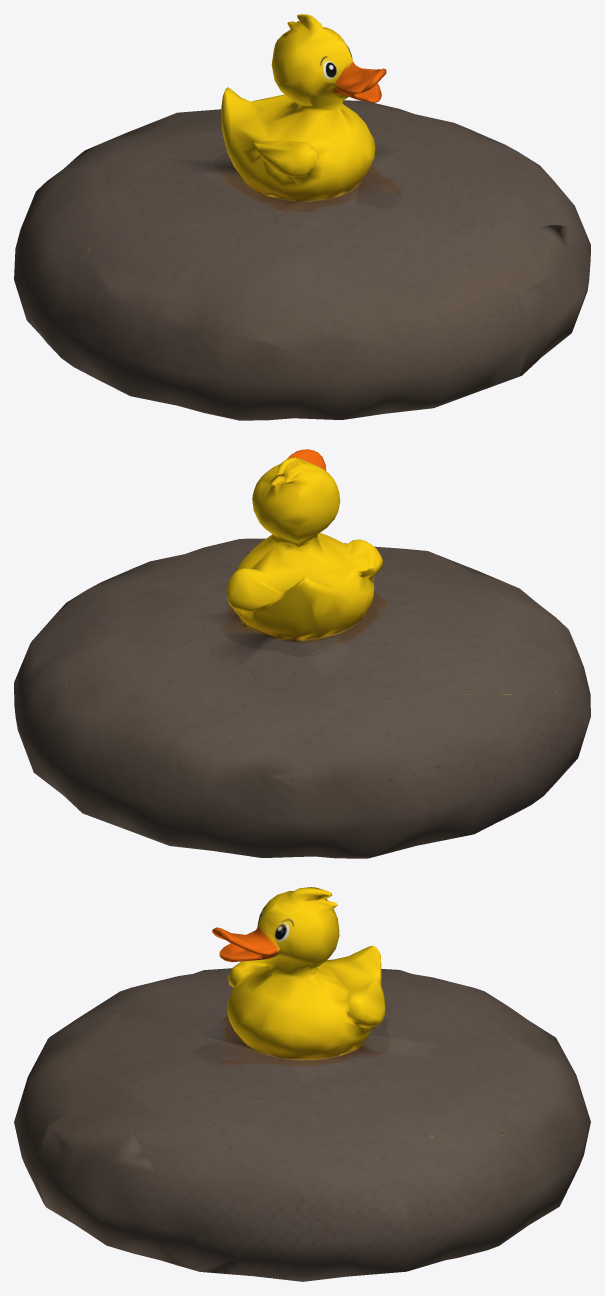
File: Duck.fbx
3 renders of one model, top to bottom at view 1: azimuth 30°, elevation 25°; view 2: azimuth 150°, elevation 25°; view 3: azimuth 270°, elevation 25°, orthographic.
Parts seen in each view (by area): view 1: Mesh_0; view 2: Mesh_0; view 3: Mesh_0.
Boxes of the visible parts, x1=… form: Mesh_0: x1=14, y1=14, x2=590, y2=420; Mesh_0: x1=14, y1=449, x2=590, y2=858; Mesh_0: x1=14, y1=887, x2=590, y2=1281.
Bounding box in the file's own units: 190 × 111 × 190.
1 material, 1 textured.
